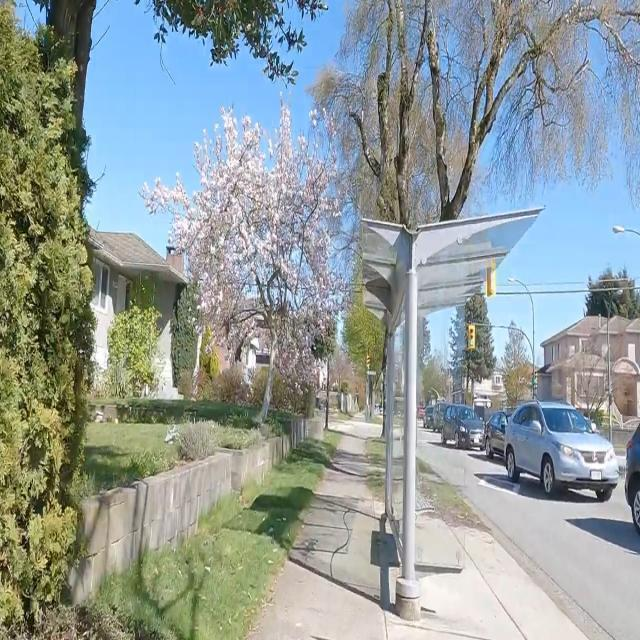Automobile: (486, 400, 619, 501), (443, 404, 483, 448), (625, 424, 639, 535), (485, 412, 505, 458), (424, 401, 448, 430)
Obstacle: (0, 5, 94, 639), (94, 436, 334, 639), (70, 435, 291, 601), (362, 209, 541, 312), (396, 269, 420, 620), (0, 604, 148, 639), (419, 461, 488, 531), (289, 417, 314, 447)
Road: (420, 435, 639, 639), (331, 419, 381, 437)
Sidewalk: (246, 434, 589, 640), (349, 414, 364, 425)
